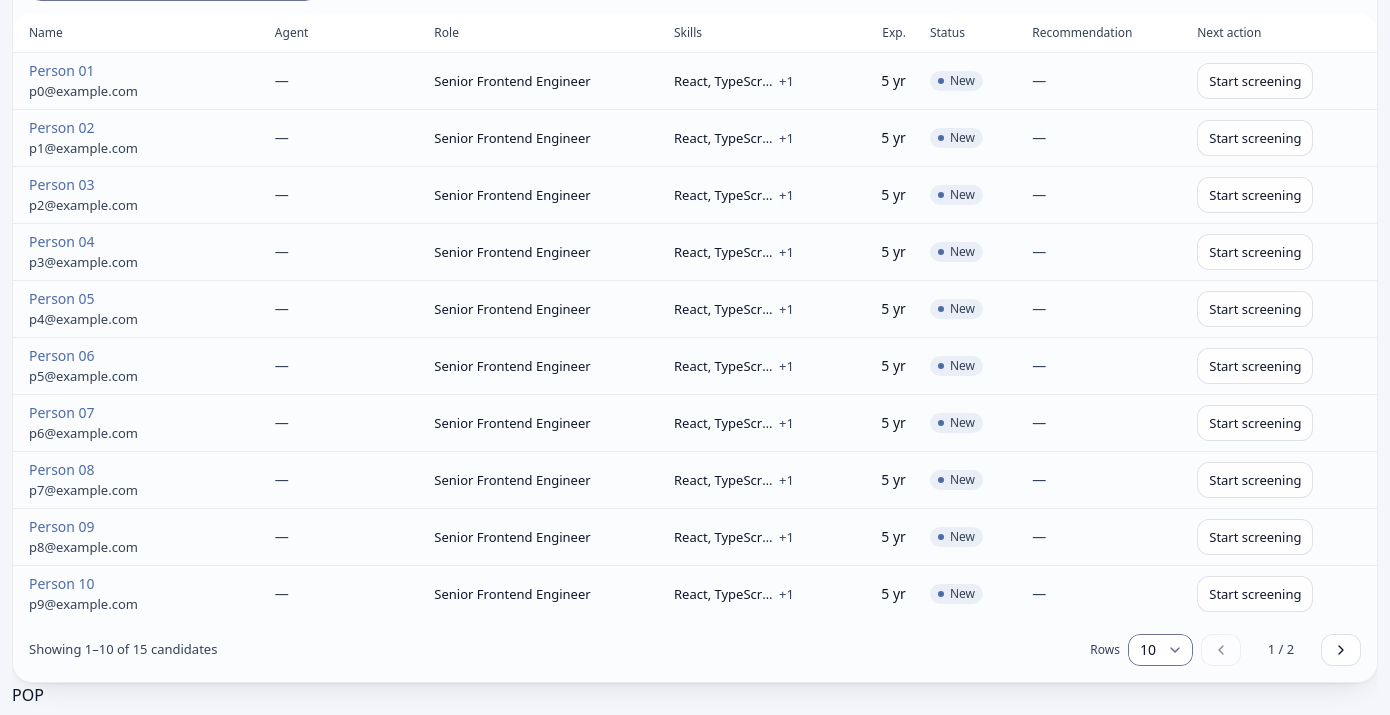
Test: CandidatesPage search › returns to page 1 when the search changes
The width and height of the screenshot is (1390, 715).
(page scrolled)
Expected: the link "Person 01" is shown, [29,61,95,80]
Click the button named "Next page".
click(1341, 650)  # box [1321,634,1361,666]
(page scrolled)
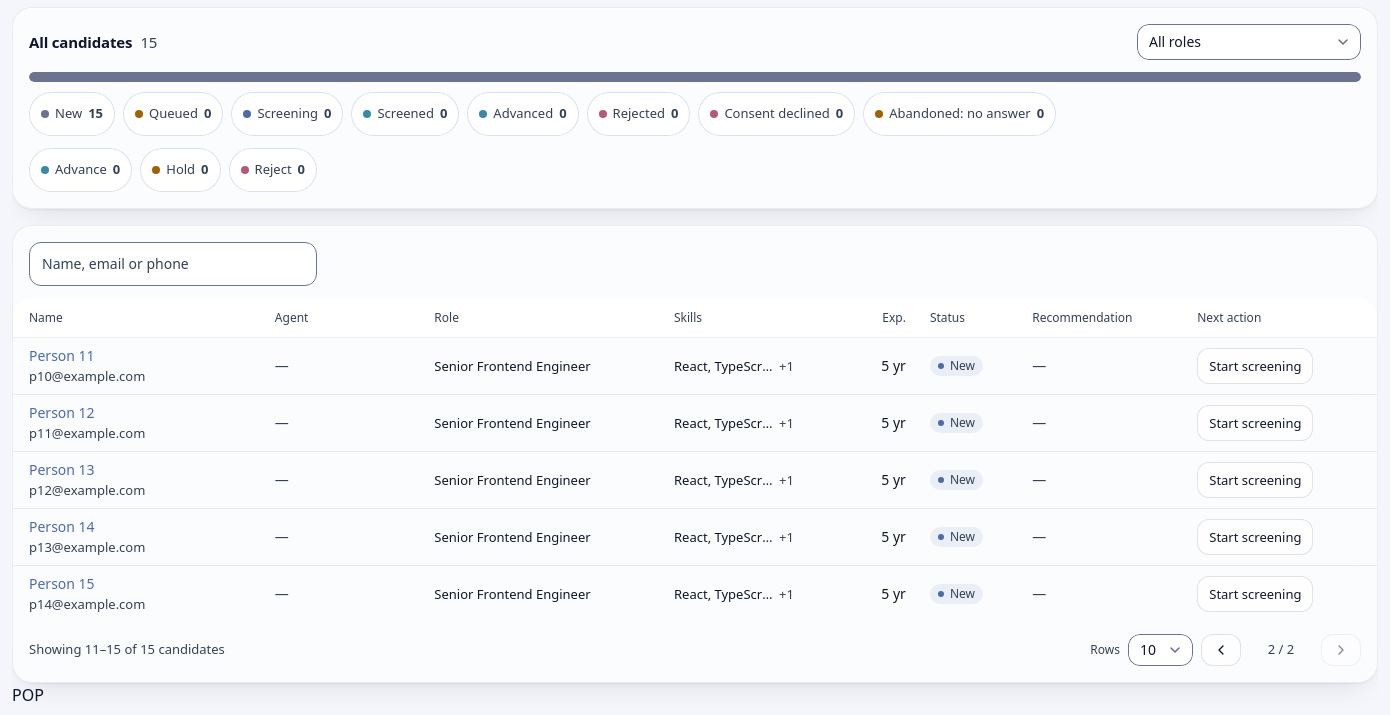
Expected: the link "Person 11" is shown, [29,346,95,365]
Type "person" into the search field named "Search candidates".
click(173, 264); type("person")  # box [29,242,317,286]
(page scrolled)
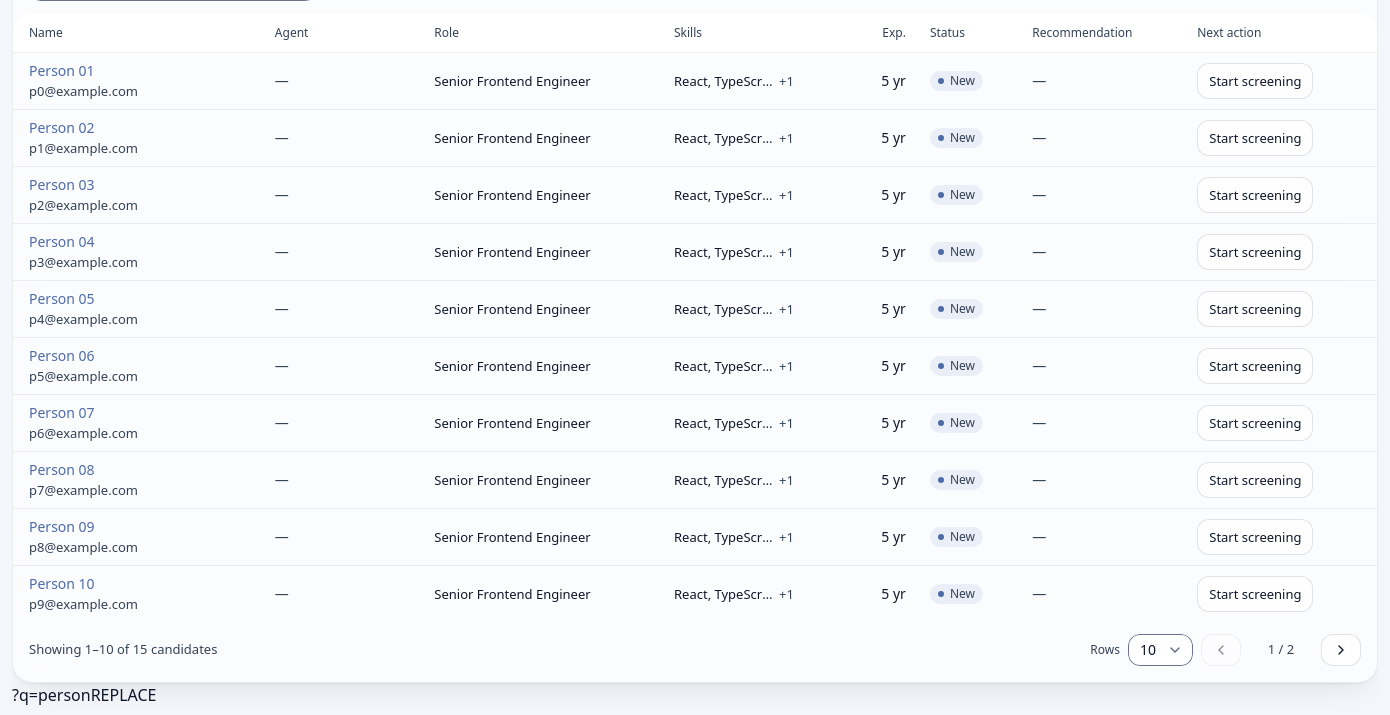
Expected: the text with test id "location" reads "?q=person", [12,684,91,706]
Expected: the link "Person 01" is shown, [29,61,95,80]
Expected: the link "Person 11" is gone
